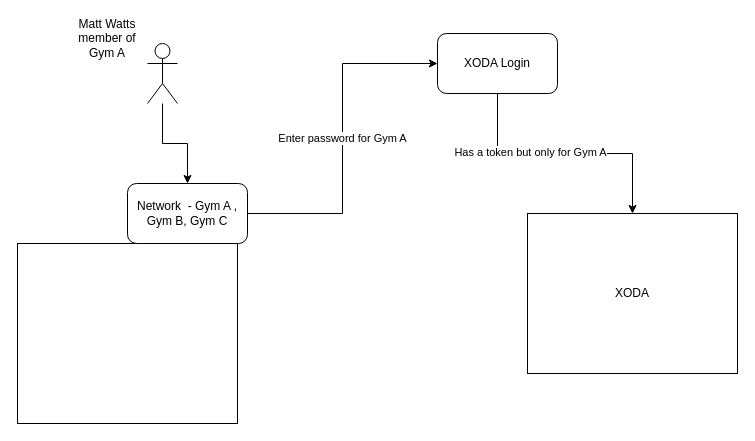
Some shapes in this 755 by 441 pixel diagram are drawn without their labels. Each missing label, with the centre of its shape:
"Actor" goes at (x=162, y=73).
"Flex Network" goes at (x=127, y=333).
